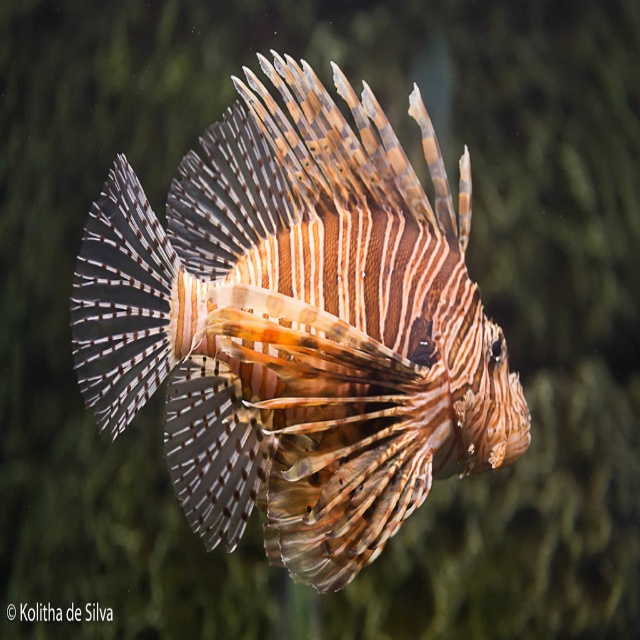Fish: (84, 18, 533, 607)
